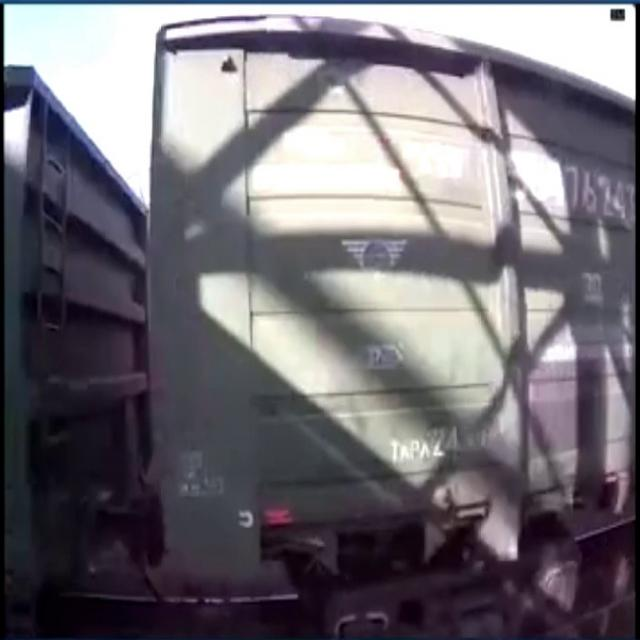gondola: (140, 0, 640, 640), (0, 42, 148, 640)
